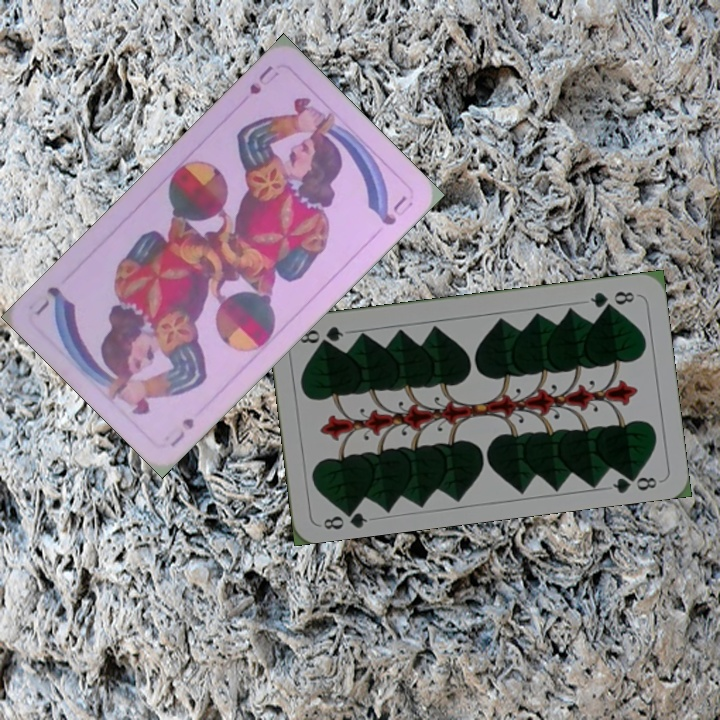G8: (319, 502, 370, 532), (586, 287, 637, 311)
SU: (245, 61, 282, 97), (166, 413, 197, 450)
